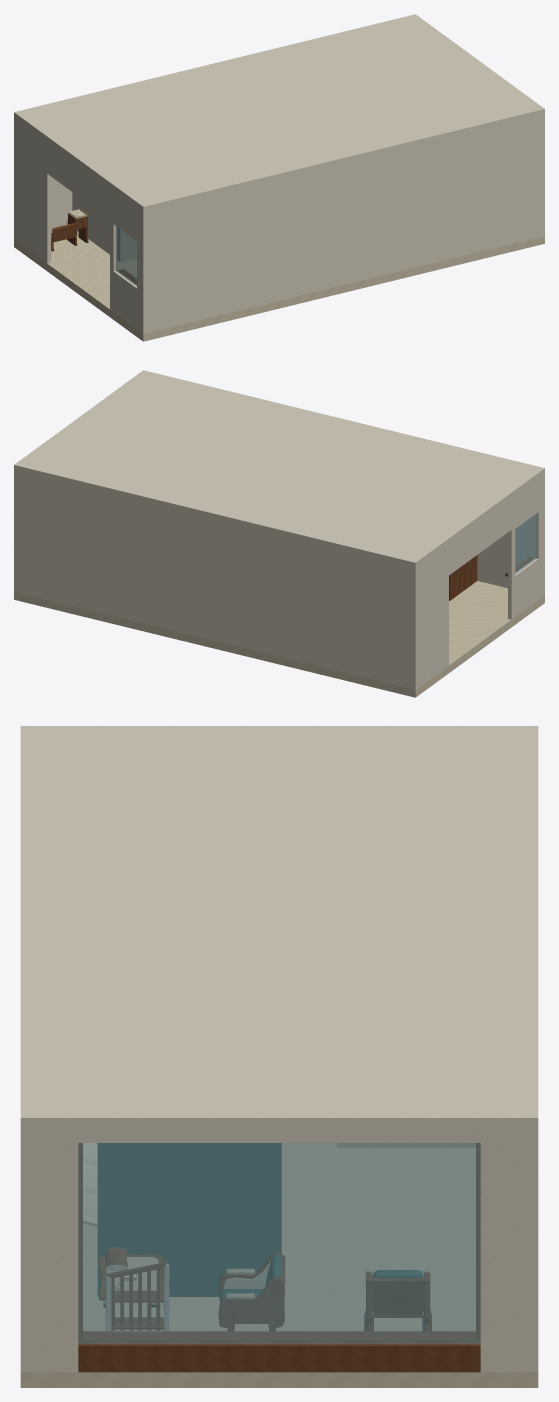
The model's file is QuietGroveBank_379_r001.glb.
3 renders of one model, top to bottom at view 1: azimuth 30°, elevation 25°; view 2: azimuth 150°, elevation 25°; view 3: azimuth 270°, elevation 25°, orthographic. The views are drawn at different scales.
Visible parts, largest first — view 1: QG379_Ceiling, QG379_NorthSide, QG379_RoomFloor, QG379_EntryShoulderSouth, QG379_EntryHeader, QG379_StreetWindowLower, QG379_WashEntrySide, QG379_SouthSide, QG379_StreetWindowUpper, QG379_ScreenedStreetGlass, QGB379_CourtSouthPier; view 2: QG379_Ceiling, QG379_SouthSide, QG379_RoomFloor, QG379_EntryShoulderSouth, QG379_NorthSide, QG379_EntryHeader, QG379_StreetWindowLower, QG379_StreetWindowUpper, QG379_ScreenedStreetGlass, QG379_EntryPrivacyDogleg; view 3: QG379_Ceiling, QGB379_PrivateCourtGlass, QG379_RoomFloor, QG379_Cocoon01_RearLiner, QGB379_CourtNorthPier, QGB379_CourtSouthPier, QGB379_CourtSill, QGB379_CourtHeader, QGB379_DeepReveal_0.34, QG379_NorthSide, QG379_SouthSide, QG379_QG379_DayReadingChair__DAY_CHAIR_L_swept_walnut_cheek (+4 smaller).
Boxes of the visible parts, x1,y1,x2,y2 form: QG379_Ceiling: [14, 14, 544, 211]; QG379_NorthSide: [141, 114, 544, 333]; QG379_RoomFloor: [14, 231, 544, 341]; QG379_EntryShoulderSouth: [16, 119, 51, 263]; QG379_EntryHeader: [46, 142, 110, 219]; QG379_StreetWindowLower: [110, 269, 141, 331]; QG379_WashEntrySide: [72, 192, 123, 261]; QG379_SouthSide: [14, 117, 72, 240]; QG379_StreetWindowUpper: [110, 188, 141, 243]; QG379_ScreenedStreetGlass: [115, 226, 136, 285]; QGB379_CourtSouthPier: [537, 114, 544, 236]; QG379_Ceiling: [14, 370, 544, 567]; QG379_SouthSide: [14, 470, 417, 689]; QG379_RoomFloor: [14, 581, 544, 697]; QG379_EntryShoulderSouth: [417, 544, 448, 687]; QG379_NorthSide: [477, 473, 544, 596]; QG379_EntryHeader: [448, 497, 512, 575]; QG379_StreetWindowLower: [508, 556, 542, 619]; QG379_StreetWindowUpper: [510, 475, 542, 531]; QG379_ScreenedStreetGlass: [515, 514, 536, 573]; QG379_EntryPrivacyDogleg: [449, 555, 477, 600]; QG379_Ceiling: [20, 726, 538, 1128]; QGB379_PrivateCourtGlass: [78, 1143, 480, 1343]; QG379_RoomFloor: [20, 1143, 538, 1387]; QG379_Cocoon01_RearLiner: [102, 1143, 276, 1296]; QGB379_CourtNorthPier: [480, 1128, 538, 1372]; QGB379_CourtSouthPier: [20, 1128, 78, 1372]; QGB379_CourtSill: [78, 1342, 480, 1372]; QGB379_CourtHeader: [78, 1128, 480, 1142]; QGB379_DeepReveal_0.34: [83, 1331, 475, 1341]; QG379_NorthSide: [20, 1128, 29, 1372]; QG379_SouthSide: [529, 1128, 538, 1372]; QG379_QG379_DayReadingChair__DAY_CHAIR_L_swept_walnut_cheek: [219, 1276, 284, 1327].
Size of the model in its own units: 12.9 by 4.14 by 7.2.
64 materials, 49 textured.
